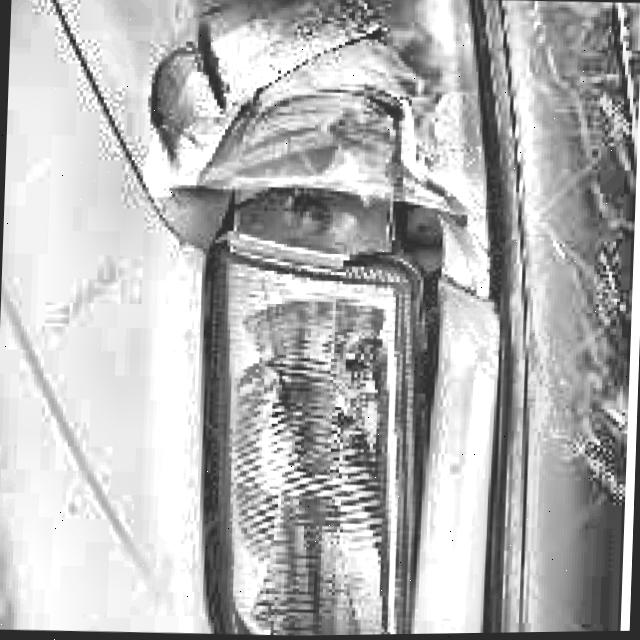head_lamp: (198, 87, 450, 637)
